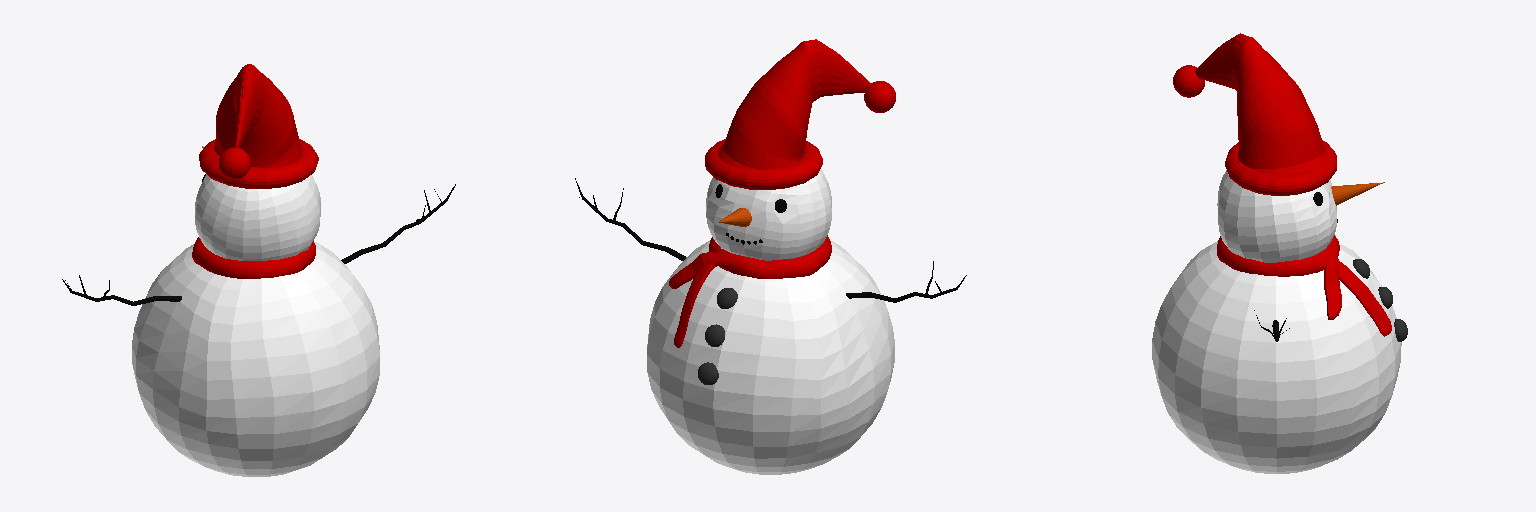
Rendered from snowman.obj.
The picture shows the model from 3 angles: view 1: azimuth 30°, elevation 25°; view 2: azimuth 150°, elevation 25°; view 3: azimuth 270°, elevation 25°; orthographic projection.
Visible parts, largest first — view 1: pSphere1.001, polySurface1.001, pSphere19.001, pTorus2.001, pTorus1.001, pCylinder3.001; view 2: pSphere1.001, pSphere19.001, polySurface1.001, pTorus1.001, pTorus2.001, pCylinder3.001, pSphere18.001; view 3: pSphere1.001, pSphere19.001, polySurface1.001, pTorus1.001, pTorus2.001, pSphere18.001, polySurface11.001.
Part boxes in pixels (left/top/right/bottom): pSphere1.001: left=132, top=242, right=379, bottom=476; polySurface1.001: left=195, top=174, right=320, bottom=260; pSphere19.001: left=214, top=64, right=303, bottom=179; pTorus2.001: left=199, top=139, right=318, bottom=188; pTorus1.001: left=192, top=237, right=315, bottom=278; pCylinder3.001: left=62, top=184, right=455, bottom=305; pSphere1.001: left=647, top=240, right=894, bottom=474; pSphere19.001: left=718, top=39, right=895, bottom=169; polySurface1.001: left=706, top=169, right=831, bottom=260; pTorus1.001: left=669, top=235, right=831, bottom=347; pTorus2.001: left=705, top=139, right=822, bottom=189; pCylinder3.001: left=575, top=178, right=966, bottom=302; pSphere18.001: left=698, top=288, right=737, bottom=384; pSphere1.001: left=1152, top=241, right=1401, bottom=473; pSphere19.001: left=1173, top=33, right=1326, bottom=174; polySurface1.001: left=1217, top=170, right=1336, bottom=262; pTorus1.001: left=1217, top=235, right=1391, bottom=336; pTorus2.001: left=1225, top=140, right=1336, bottom=195; pSphere18.001: left=1353, top=259, right=1407, bottom=341; polySurface11.001: left=1331, top=182, right=1384, bottom=205.
Size of the model in its own units: 0.0504 by 0.051 by 0.0284.